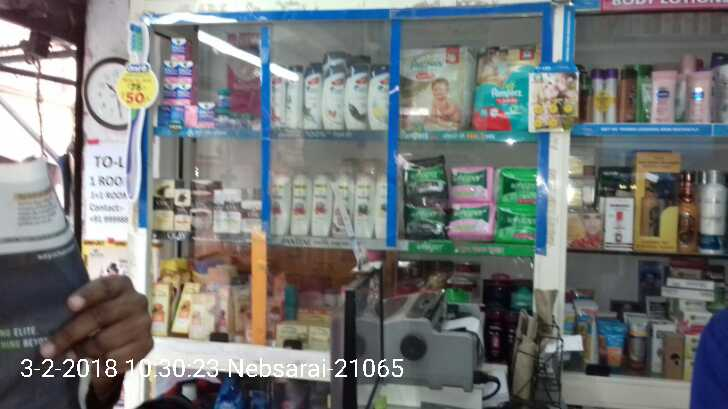vicks: (158, 32, 252, 127)
